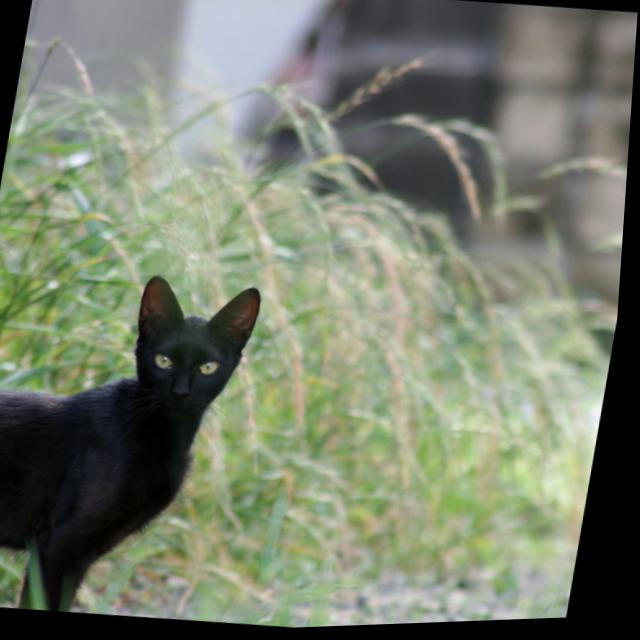animals: (133, 273, 260, 409)
